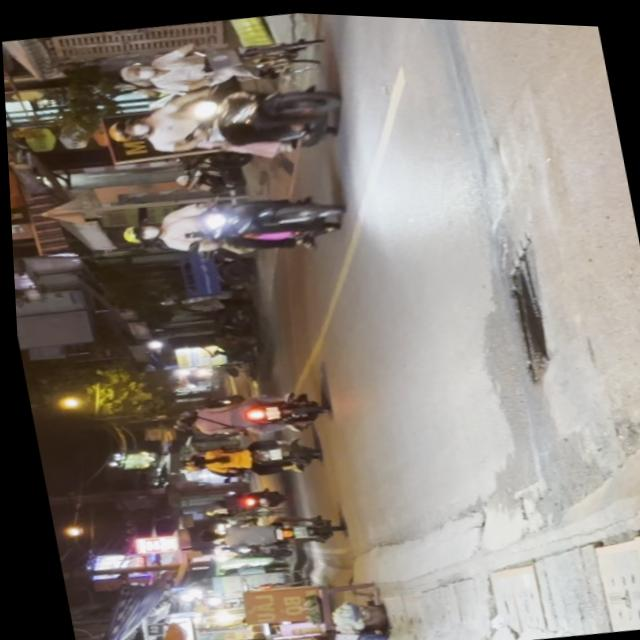helmet: (101, 113, 150, 143), (115, 219, 158, 244)
licenseplate: (95, 64, 352, 180), (110, 174, 350, 274)
